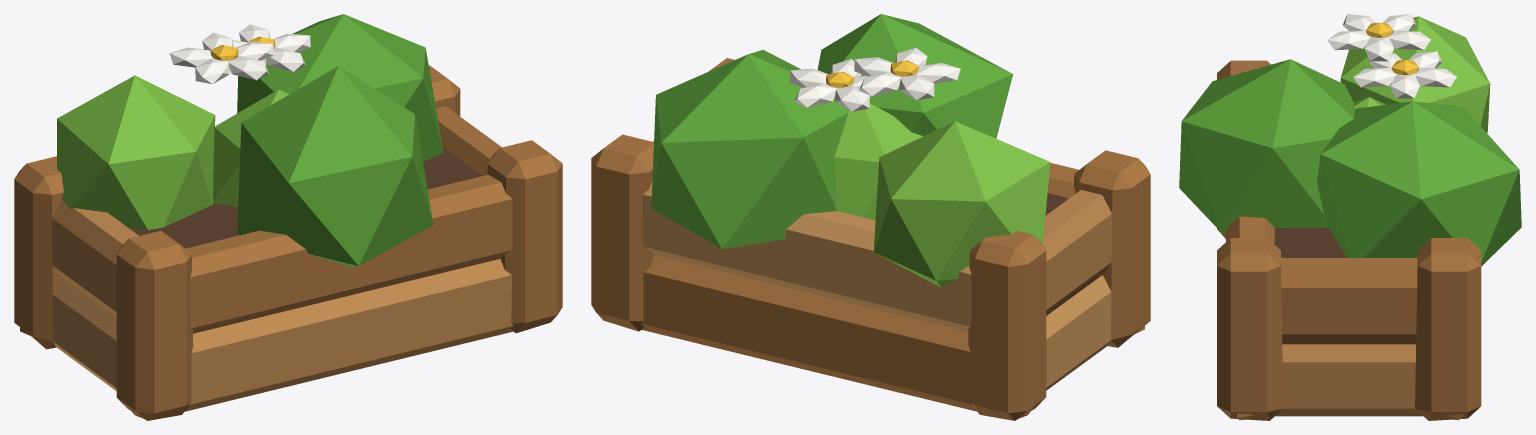
The model's file is plant_flowerbox.glb.
3 renders of one model, left to right at view 1: azimuth 30°, elevation 25°; view 2: azimuth 150°, elevation 25°; view 3: azimuth 270°, elevation 25°, orthographic. The views are drawn at different scales.
Visible parts, largest first — view 1: plant_flowerbox; view 2: plant_flowerbox; view 3: plant_flowerbox.
Boxes of the visible parts, <box> form: plant_flowerbox: <box>14,14,562,420</box>; plant_flowerbox: <box>591,14,1150,420</box>; plant_flowerbox: <box>1179,14,1521,420</box>.
Size of the model in its own units: 0.53 by 0.3405 by 0.3758.
